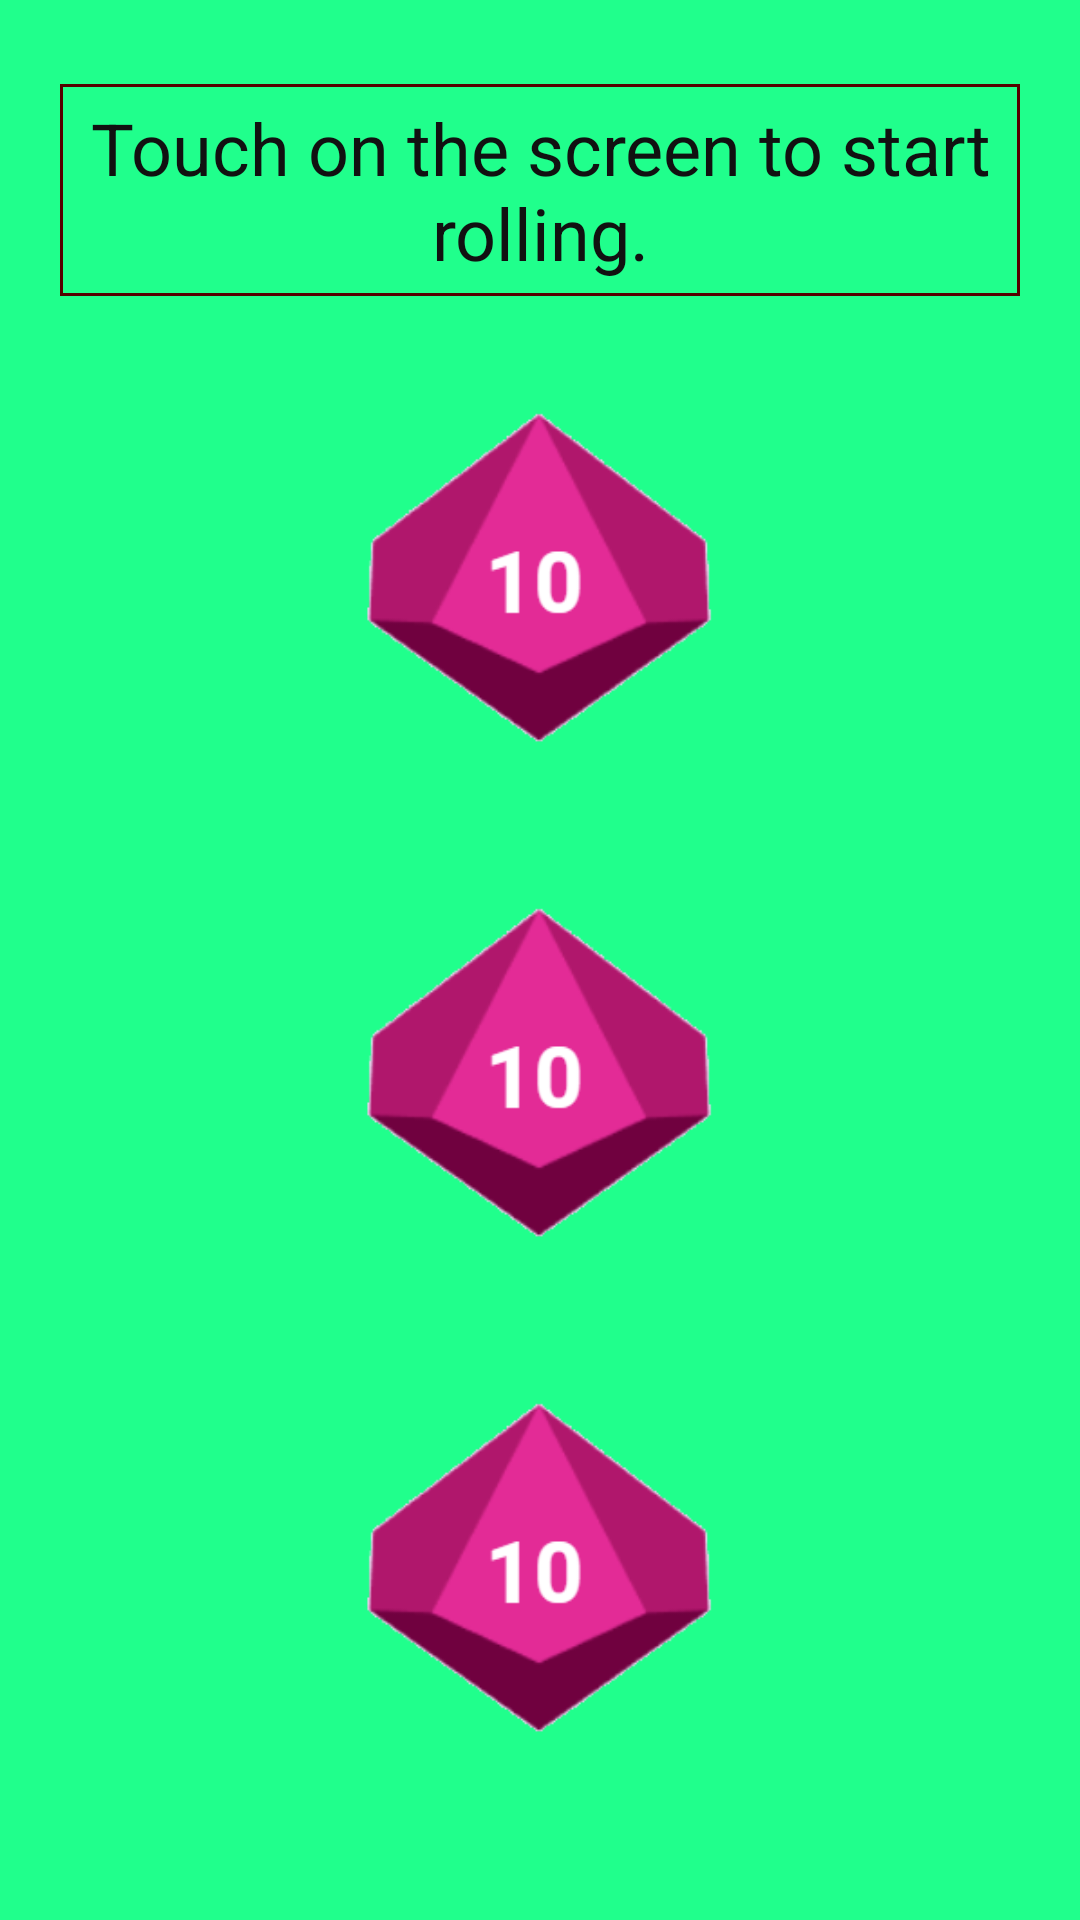

Locate icon controls on the screen. Image size 1080 × 1920, boxes as [left=x1, top=y1, right=x2, bottom=y2].
dice: [left=367, top=413, right=711, bottom=742], [left=367, top=908, right=711, bottom=1237], [left=367, top=1403, right=711, bottom=1732]
